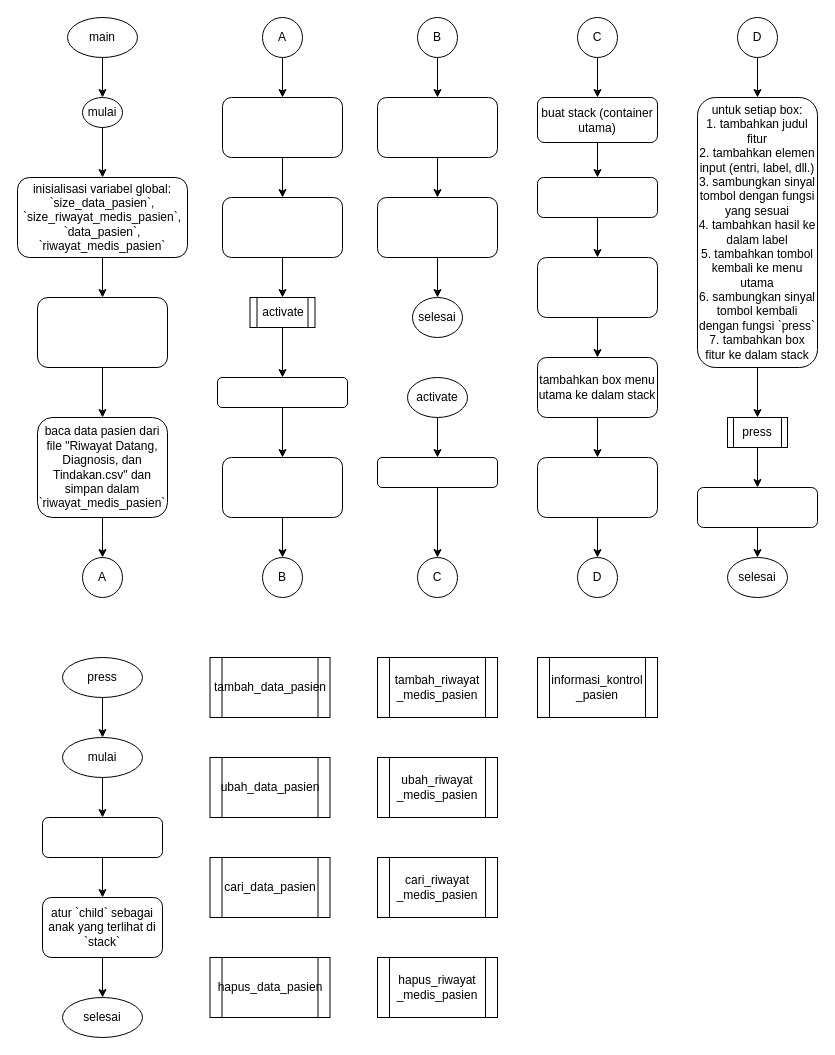
Some shapes in this 835 by 1055 pixel diagram are drawn without their labels. The shapes that lost their labels are listed below. From the top down, each one's centre as x and y in pixels, then its label:
(x=282, y=127): buat objek aplikasi GTK
(x=437, y=127): panggil fungsi dari file `my_functions.h`
(x=597, y=197): buat box sebagai menu utama
(x=282, y=227): sambungkan sinyal `activate` dengan fungsi `activate`
(x=437, y=227): tampilkan hasil pada label
(x=597, y=287): tambahkan judul, subjudul, dan tombol-tombol pada box menu utama
(x=102, y=332): baca data pasien dari file "Data Pasien.csv" dan simpan dalam `data_pasien`
(x=282, y=392): jalankan aplikasi GTK
(x=282, y=487): ambil input dari elemen imput
(x=437, y=472): buat jendela utama
(x=597, y=487): buat box untuk setiap fitur (tambah data pasien, ubah data pasien, dll.)
(x=757, y=507): tampilkan jendela utama
(x=102, y=837): ambil data parameter (`stack` dan `child`)
